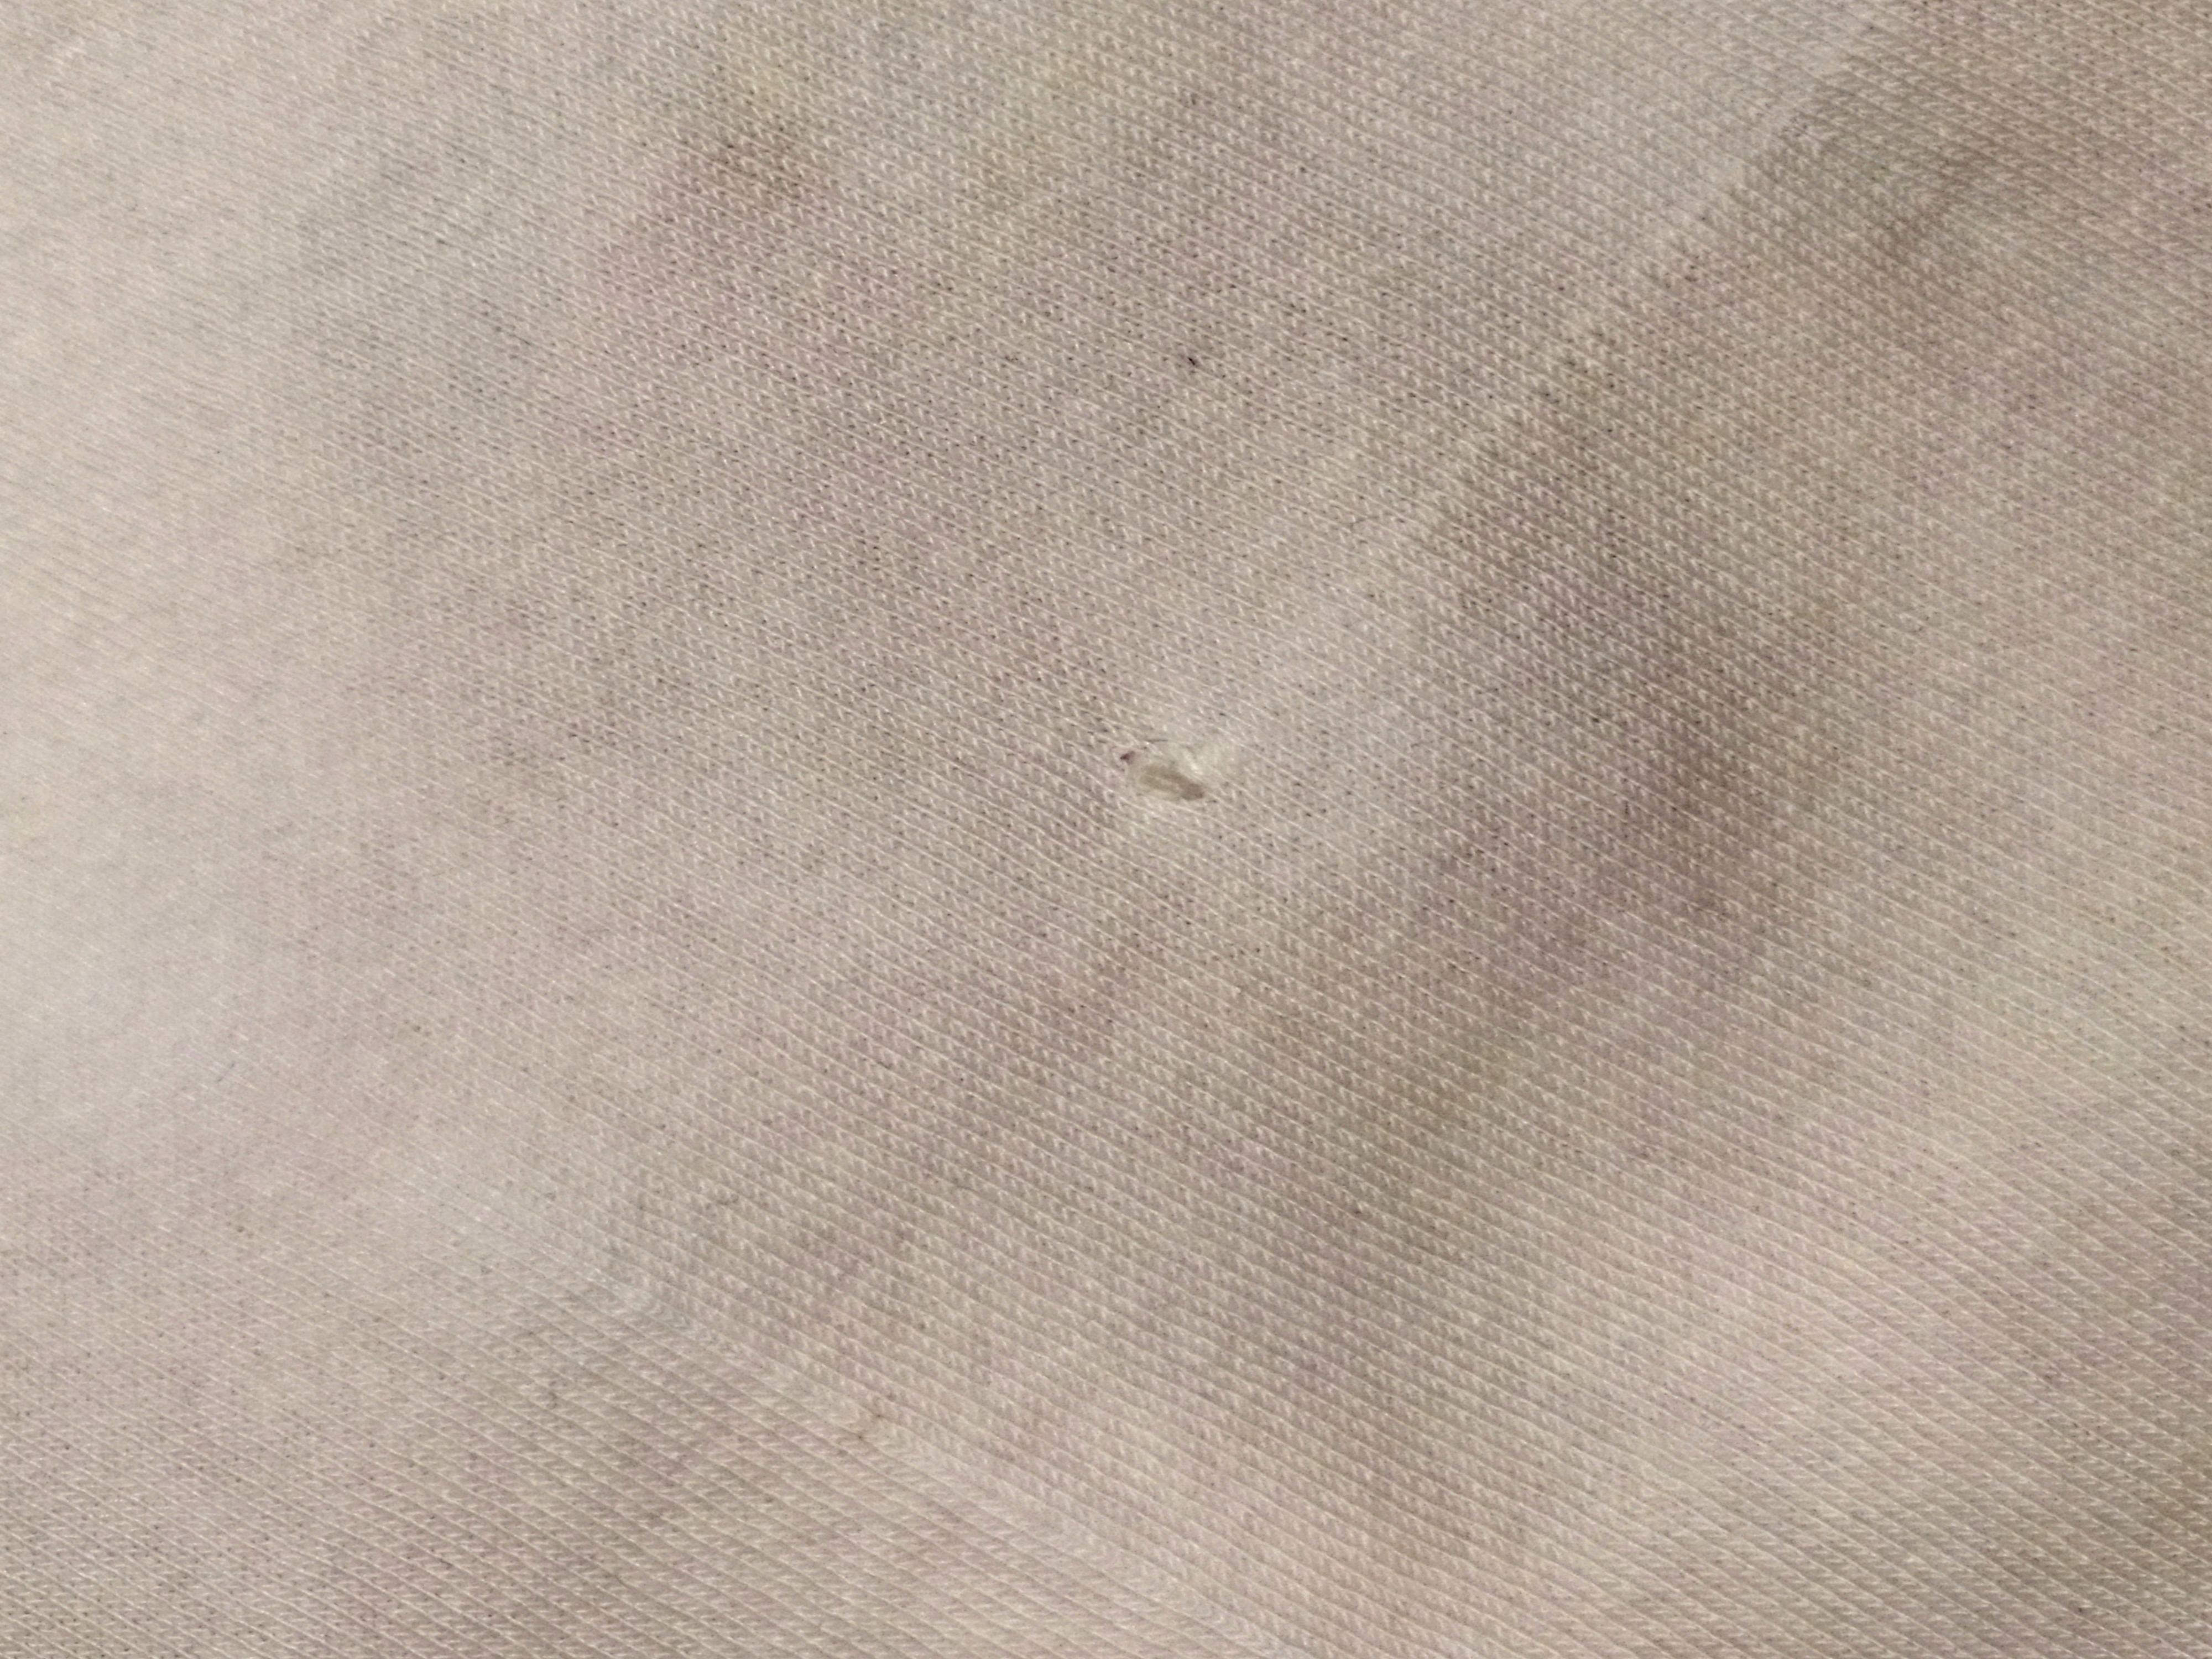knot: (1064, 704, 1254, 854)
